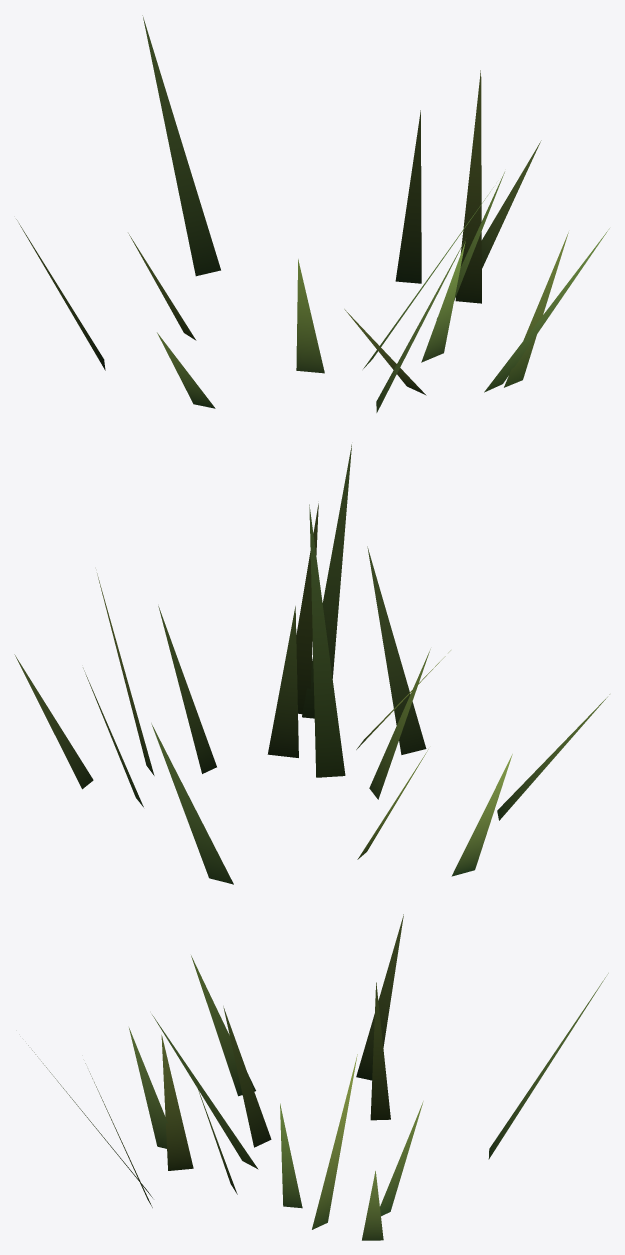
The model's file is grass-lawn-a.lod2.glb.
3 views of the same model, one above another, from view 1: azimuth 30°, elevation 25°; view 2: azimuth 150°, elevation 25°; view 3: azimuth 270°, elevation 25° (orthographic). The views are drawn at different scales.
Bounding box in the file's own units: 0.366 × 0.1443 × 0.4141.
